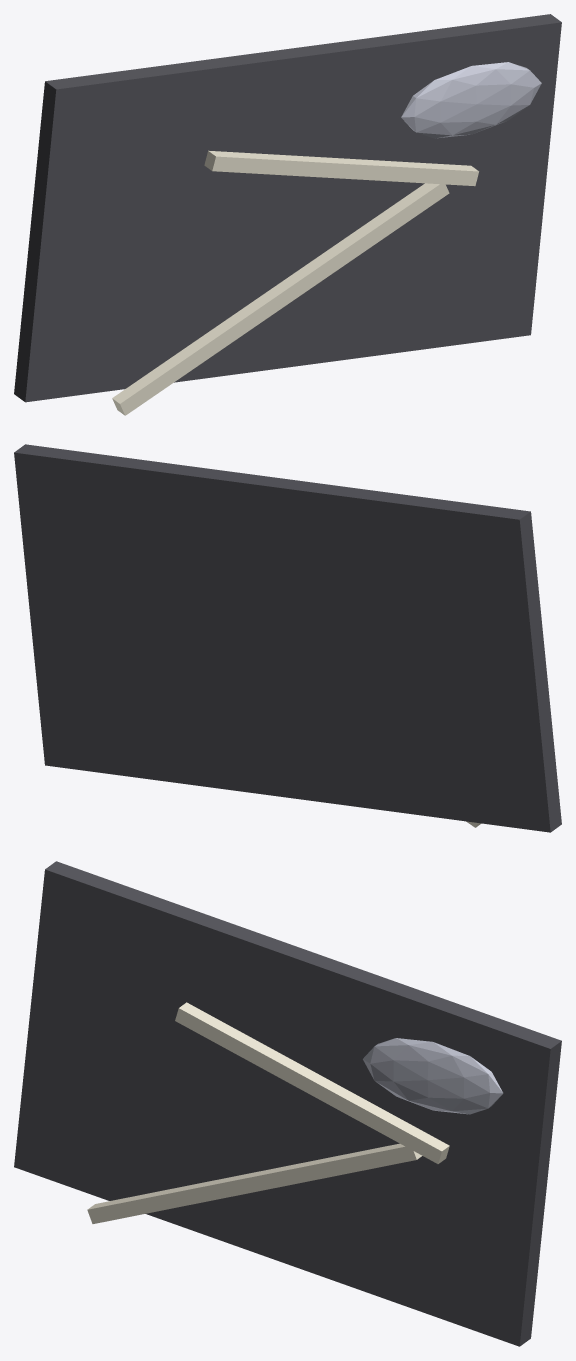
File: 01_weathering_wear_overlay_1.glb
3 views of the same model, one above another, from view 1: azimuth 30°, elevation 25°; view 2: azimuth 150°, elevation 25°; view 3: azimuth 330°, elevation 25° (orthographic).
Visible parts, largest first — view 1: wear_plate, scratch_a, rust_or_moss_spot, scratch_b; view 2: wear_plate; view 3: wear_plate, rust_or_moss_spot, scratch_b, scratch_a.
Part boxes in pixels (bbox=[...]): wear_plate: bbox=[14, 14, 561, 402]; scratch_a: bbox=[112, 183, 449, 415]; rust_or_moss_spot: bbox=[401, 62, 541, 138]; scratch_b: bbox=[204, 150, 478, 186]; wear_plate: bbox=[14, 444, 561, 832]; wear_plate: bbox=[14, 861, 561, 1346]; rust_or_moss_spot: bbox=[363, 1038, 503, 1114]; scratch_b: bbox=[175, 1002, 449, 1163]; scratch_a: bbox=[87, 1143, 422, 1223].
Size of the model in its own units: 1.37 by 0.8831 by 0.134.
